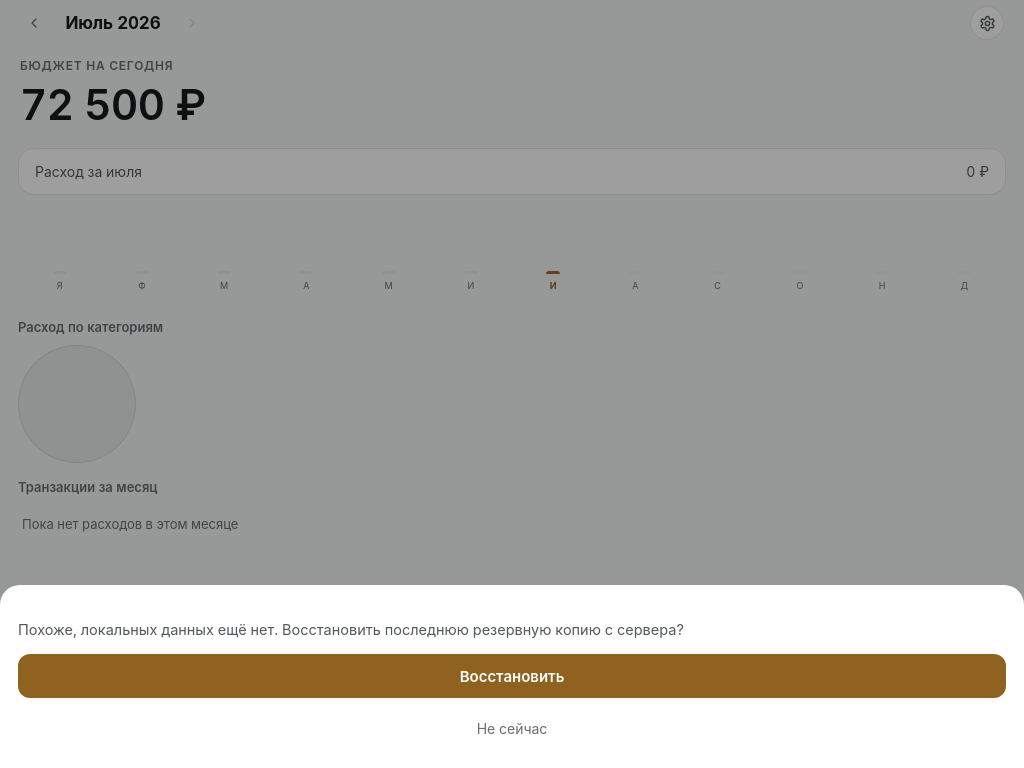
App — restore prompt on an empty launch › shows a toast and keeps the prompt open when confirming a restore fails
Step 1. Click the button with class "restore-prompt__confirm" → (512, 676), box x1=18 y1=654 x2=1006 y2=698
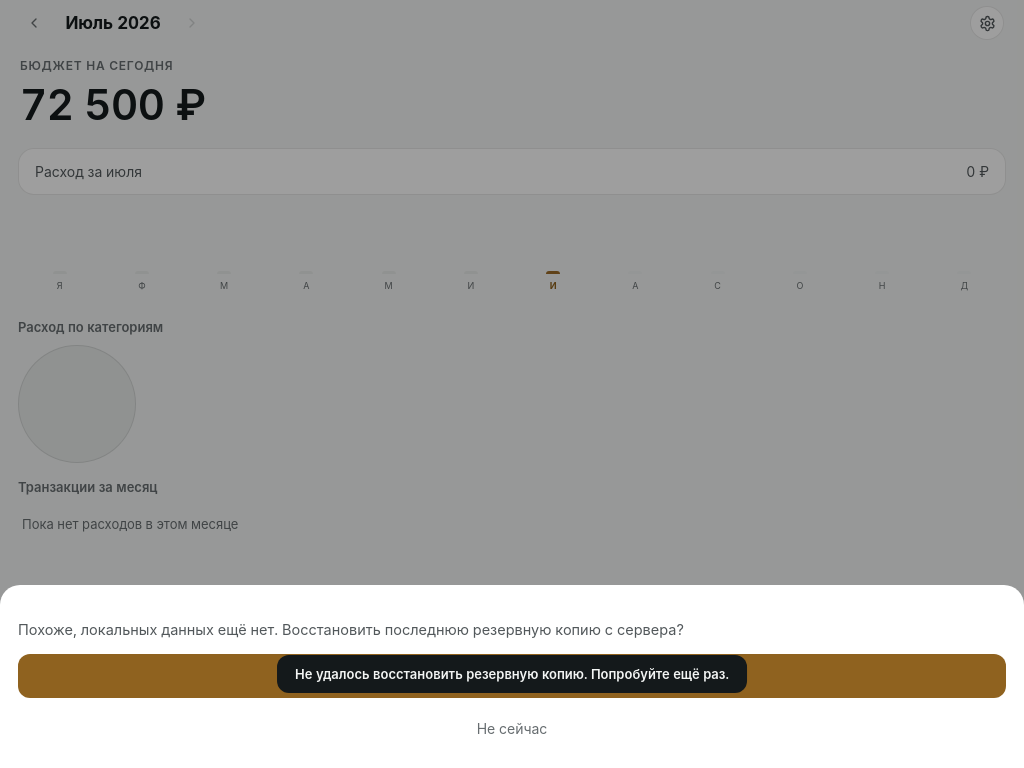
Expected: the message "Не удалось восстановить резервную копию. Попробуйте ещё раз." is shown, x1=277 y1=655 x2=747 y2=693
